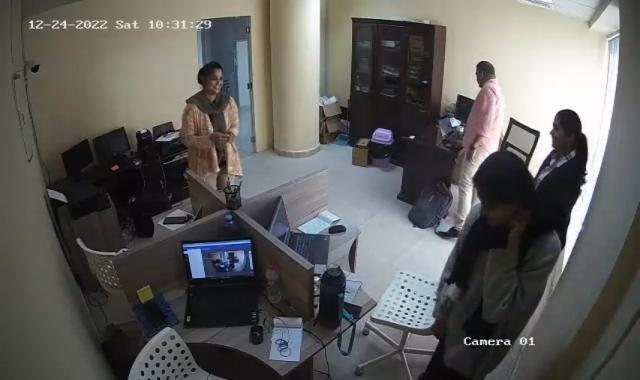no_hairnet: (472, 152, 540, 233), (548, 104, 590, 154), (196, 62, 228, 95), (470, 59, 497, 87)
